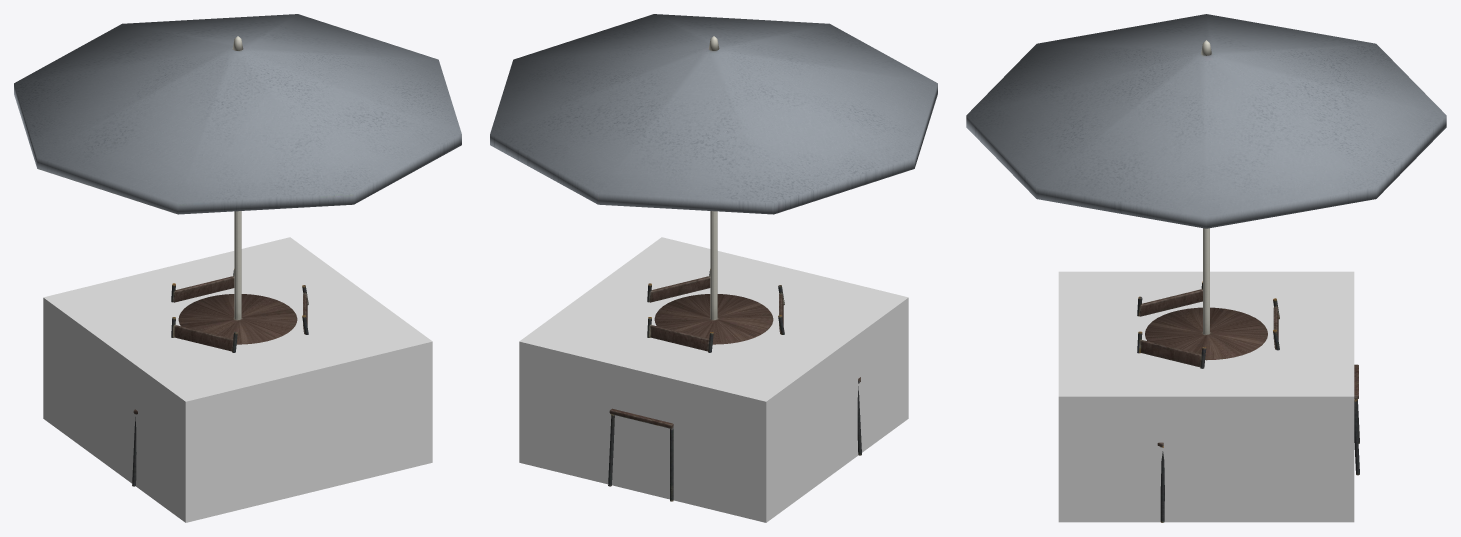
File: p2_table_set.glb
3 views of the same model, side by side, from view 1: azimuth 30°, elevation 25°; view 2: azimuth 150°, elevation 25°; view 3: azimuth 270°, elevation 25° (orthographic). The views are drawn at different scales.
Visible parts, largest first — view 1: p2_table_set_LOD0, p2_table_set_COL; view 2: p2_table_set_LOD0, p2_table_set_COL; view 3: p2_table_set_LOD0, p2_table_set_COL.
Boxes of the visible parts, box(x1,y1,x2,y2) form: p2_table_set_LOD0: box(14, 14, 461, 486); p2_table_set_COL: box(43, 237, 432, 522); p2_table_set_LOD0: box(490, 14, 937, 501); p2_table_set_COL: box(519, 237, 908, 522); p2_table_set_LOD0: box(966, 14, 1446, 522); p2_table_set_COL: box(1058, 271, 1354, 522).
Size of what is drawn, in the model's own units: 2.6 by 2.5 by 2.6.
Materials: 1 (1 with a texture image).
